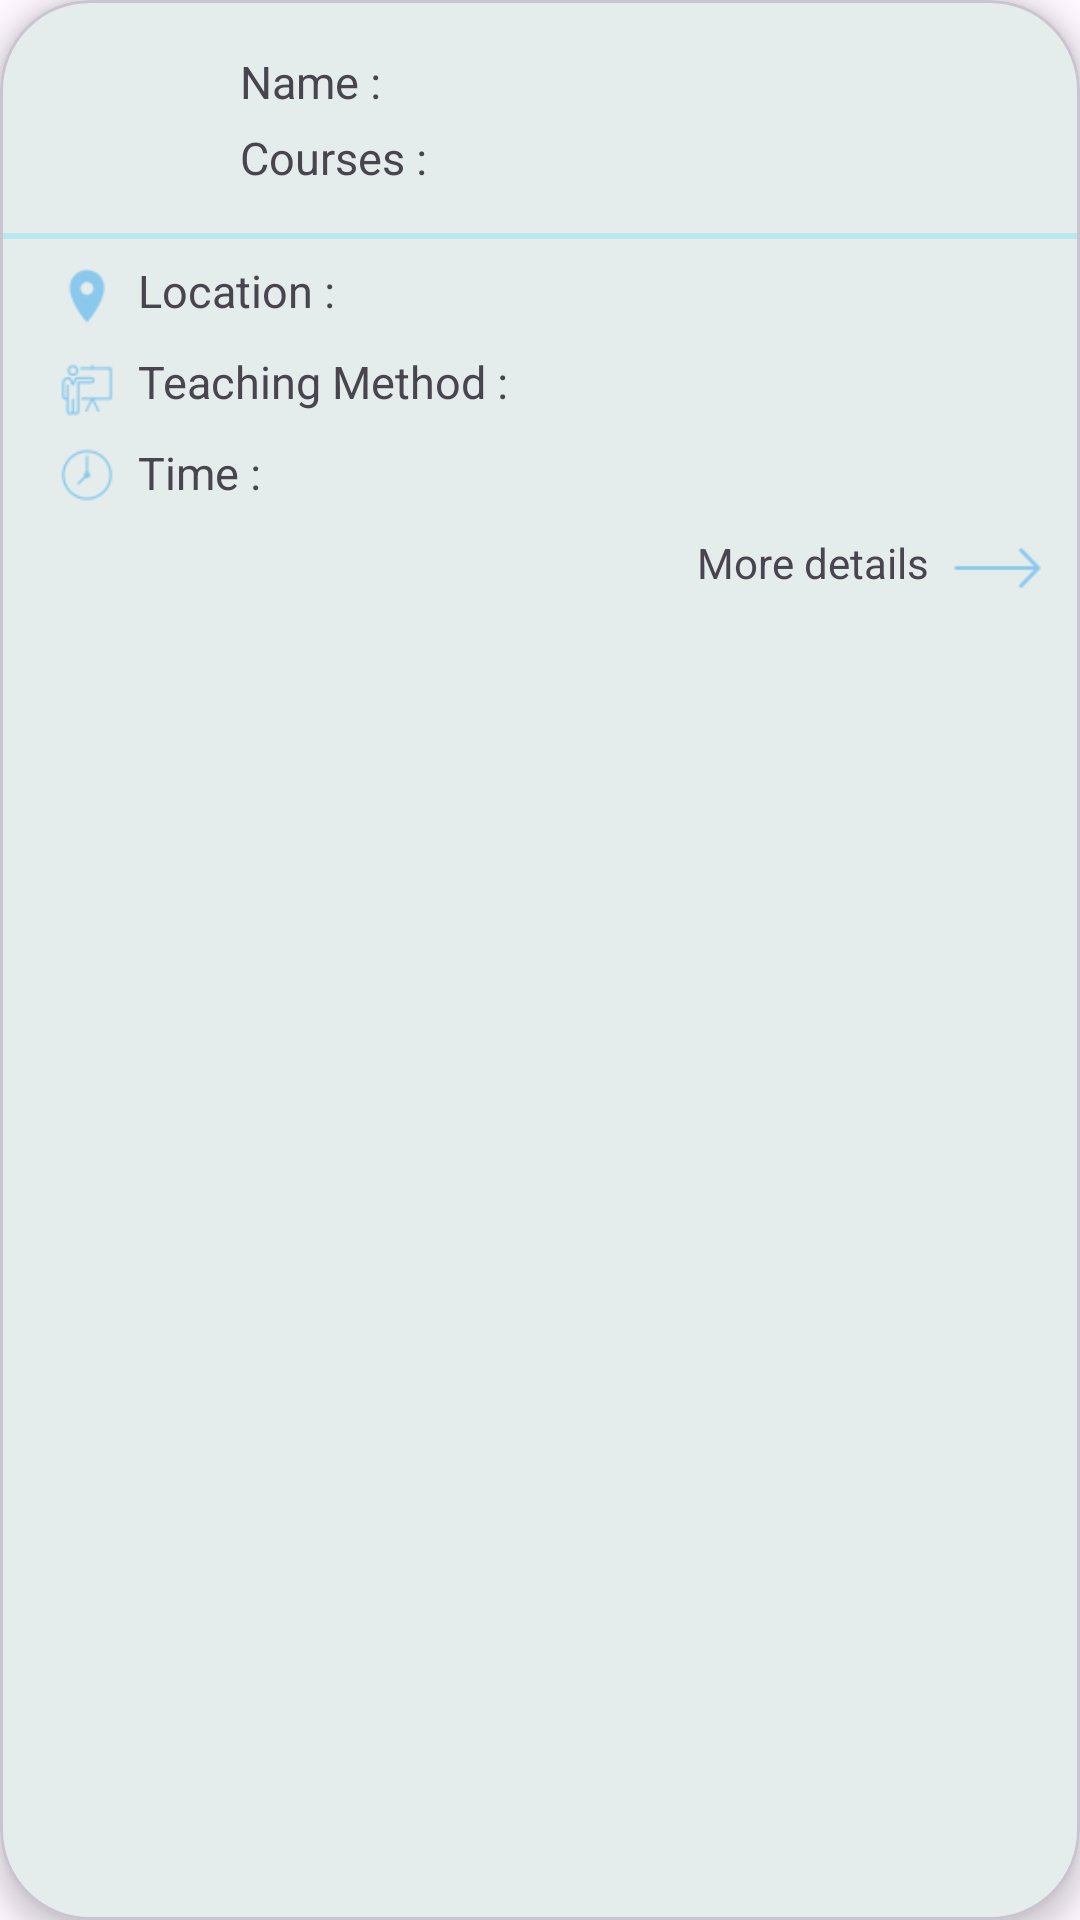

Point at icon controls on the screen. Image size 1080px×1920px, points as (x=x, y=y).
clock: (x=87, y=475)
right arrow: (x=997, y=568)
